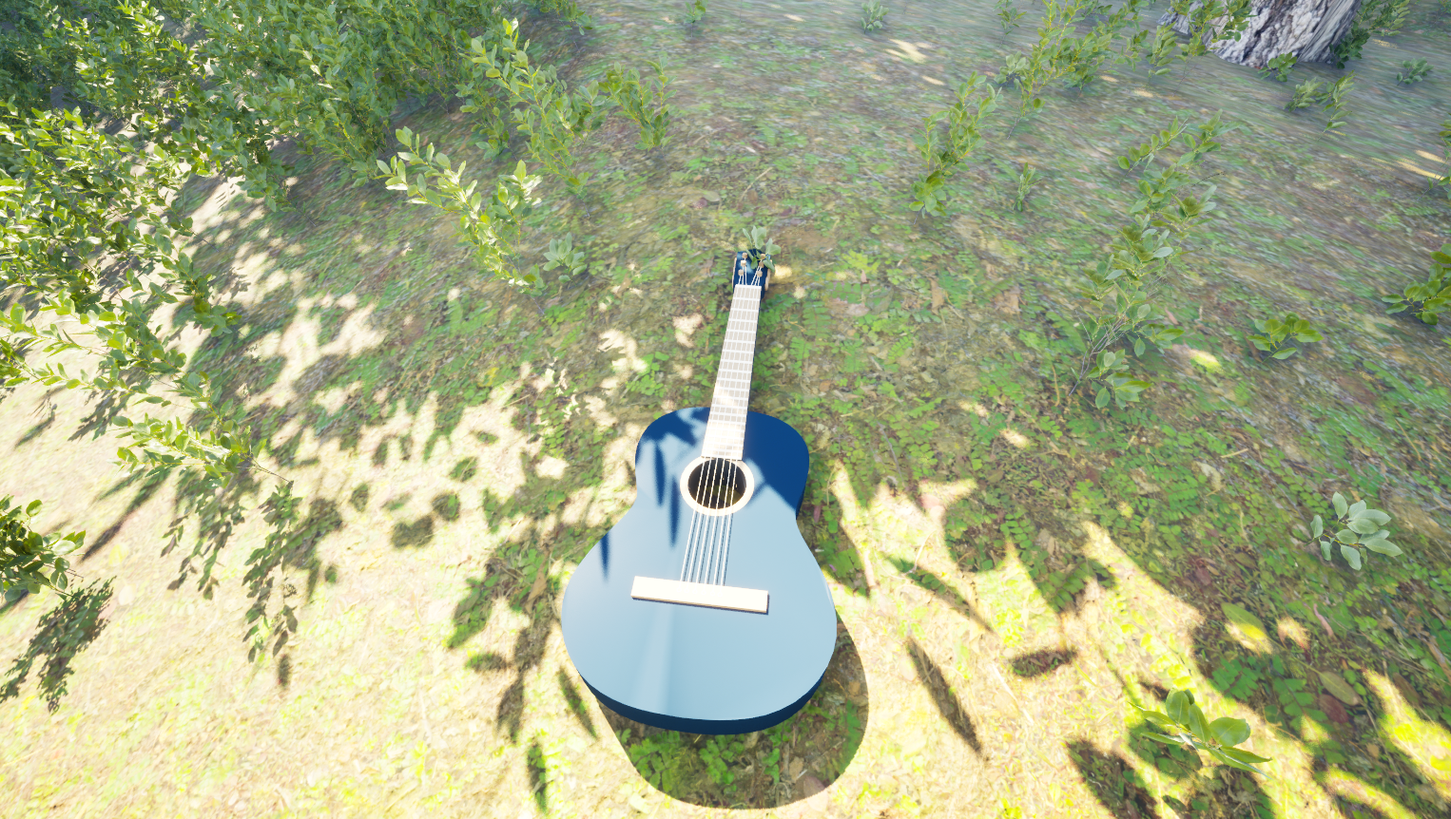Guitar: (532, 233, 837, 751)
